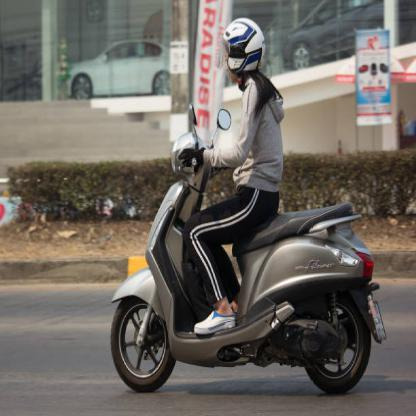Motorcycle: (107, 132, 384, 396)
